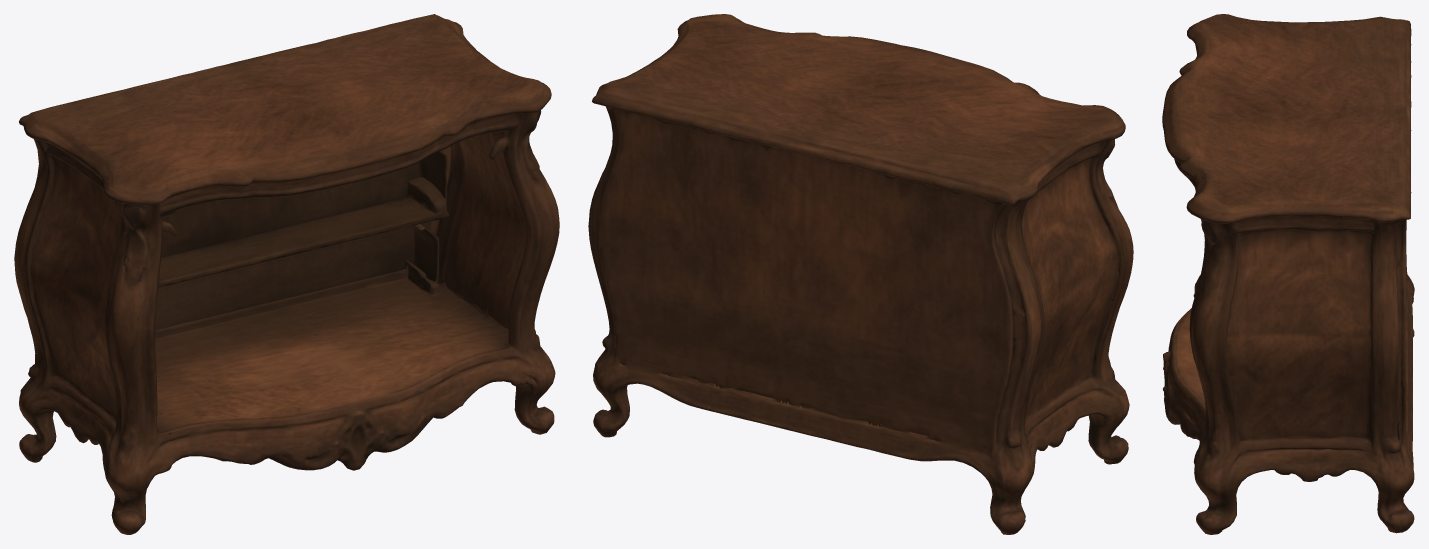
Rendered from generation_commode_1.glb.
3 renders of one model, left to right at view 1: azimuth 30°, elevation 25°; view 2: azimuth 150°, elevation 25°; view 3: azimuth 270°, elevation 25°, orthographic. The views are drawn at different scales.
Parts seen in each view (by area): view 1: geometry_0; view 2: geometry_0; view 3: geometry_0.
Part boxes in pixels (x1,y1,x2,y2): geometry_0: [14, 14, 559, 534]; geometry_0: [588, 14, 1133, 534]; geometry_0: [1162, 14, 1414, 534].
Bounding box in the file's own units: 1 × 0.7418 × 0.52.
1 material, 1 textured.
